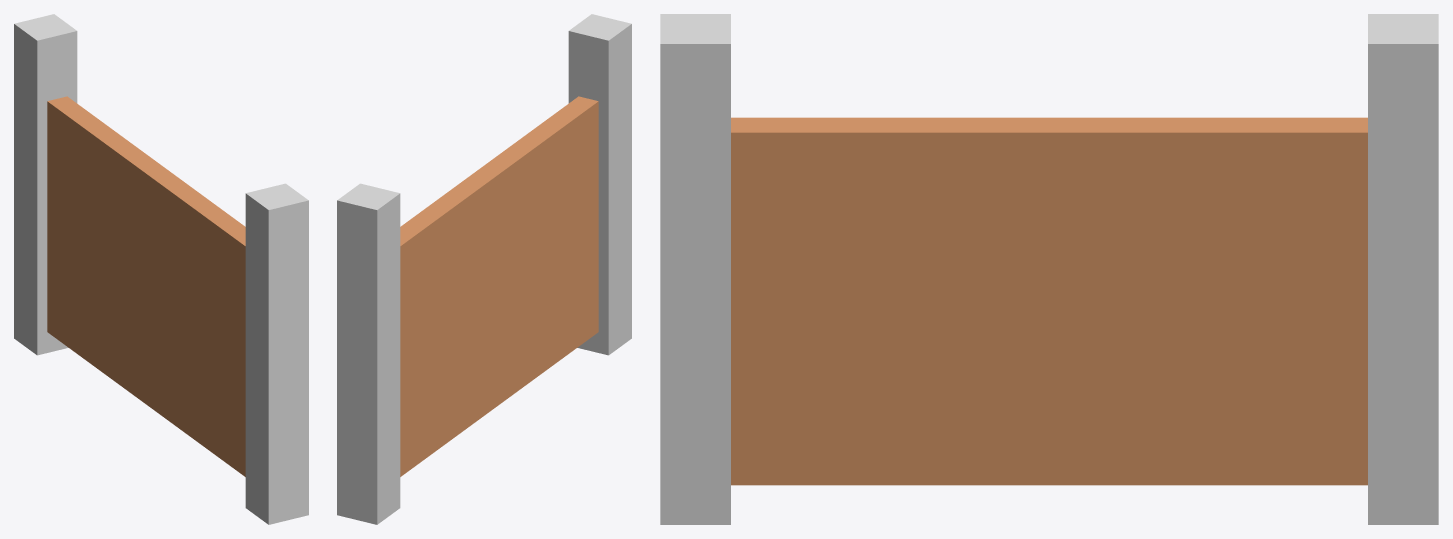
The model's file is ObstacleWall.fbx.
3 views of the same model, side by side, from view 1: azimuth 30°, elevation 25°; view 2: azimuth 150°, elevation 25°; view 3: azimuth 270°, elevation 25° (orthographic). The views are drawn at different scales.
Visible parts, largest first — view 1: ObstacleWall; view 2: ObstacleWall; view 3: ObstacleWall.
Boxes of the visible parts, left/top/right/bottom form: ObstacleWall: left=14, top=14, right=308, bottom=524; ObstacleWall: left=337, top=14, right=631, bottom=524; ObstacleWall: left=660, top=14, right=1438, bottom=524.
Bounding box in the file's own units: 0.2 × 1.5 × 2.2.
